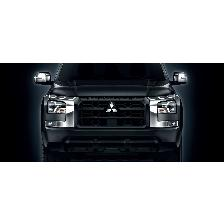NON-EV: (34, 64, 190, 163)
